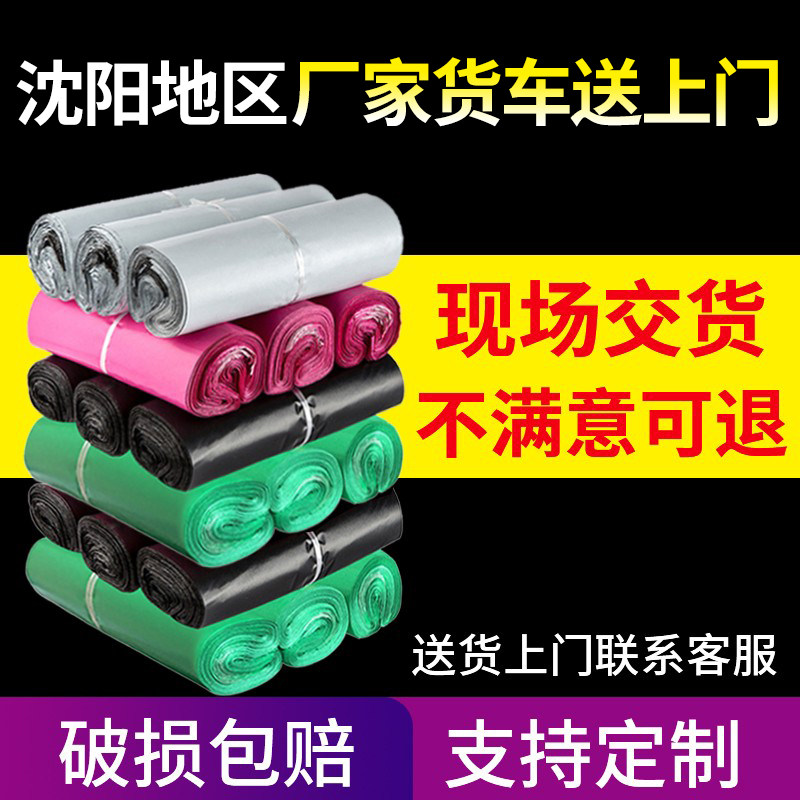Parcel: (25, 175, 402, 664)
